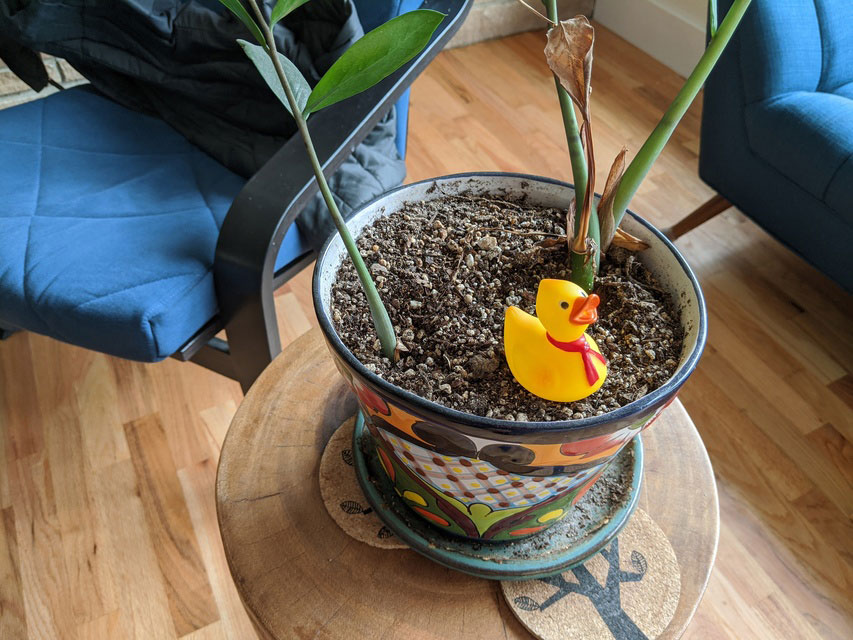ducky: (503, 278, 608, 403)
